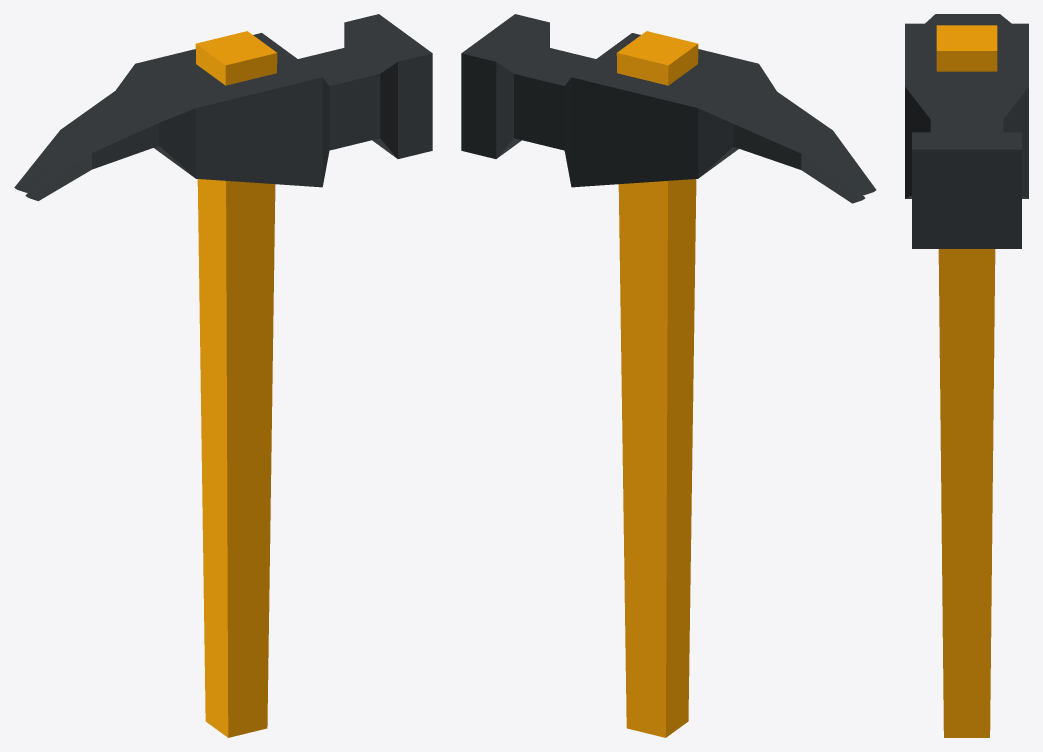
Rendered from nail hammer.obj.
3 views of the same model, side by side, from view 1: azimuth 30°, elevation 25°; view 2: azimuth 150°, elevation 25°; view 3: azimuth 270°, elevation 25° (orthographic).
Parts seen in each view (by area): view 1: Cube; view 2: Cube; view 3: Cube.
Part boxes in pixels (left/top/right/bottom): Cube: left=14, top=14, right=432, bottom=737; Cube: left=461, top=14, right=876, bottom=737; Cube: left=905, top=14, right=1028, bottom=737.
Size of the model in its own units: 0.2099 by 0.3542 by 0.0577.
